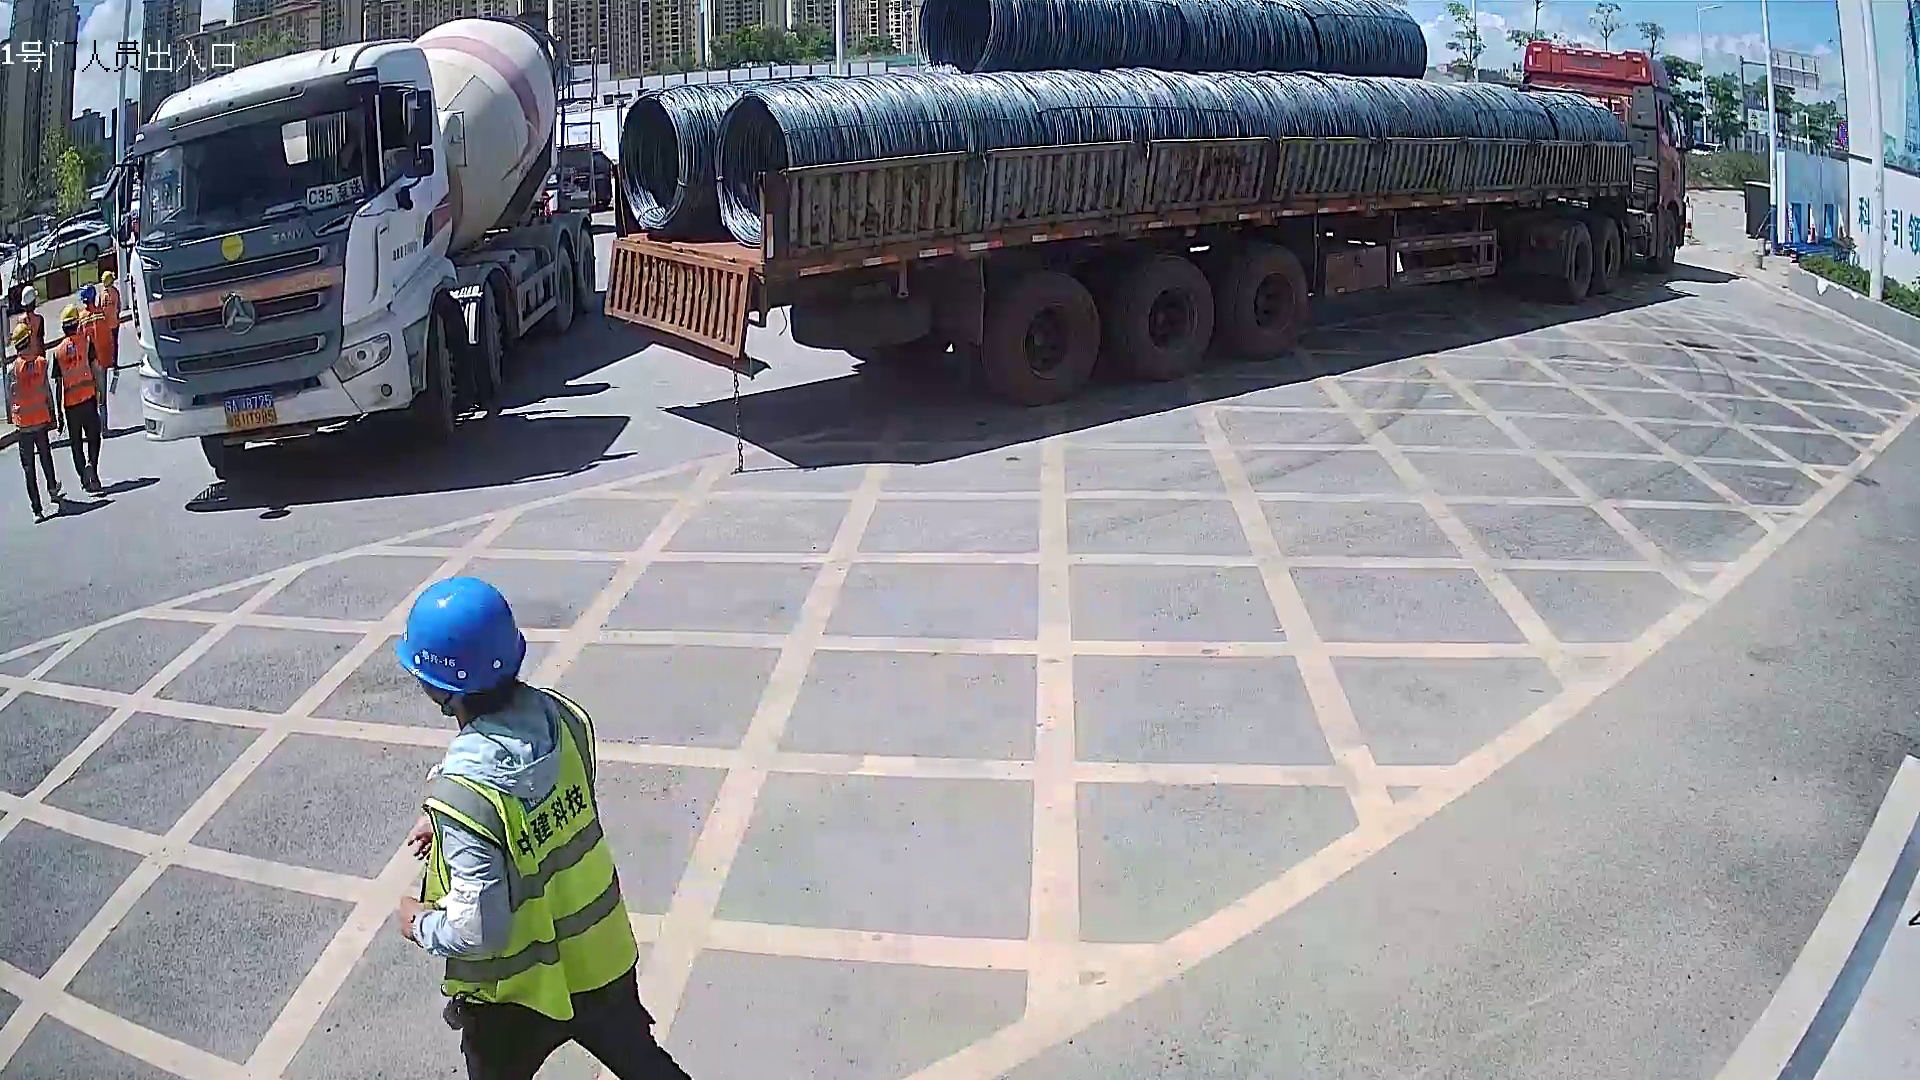person: (387, 569, 695, 1080), (1, 321, 63, 527), (51, 303, 104, 493), (99, 268, 122, 370)
reflective_vest: (418, 687, 642, 1022), (6, 353, 53, 428), (53, 334, 96, 407), (99, 289, 119, 329)
safety_helmet: (389, 571, 530, 720), (11, 320, 33, 353), (59, 302, 81, 335), (20, 284, 39, 312), (79, 281, 97, 306), (100, 268, 115, 289)
